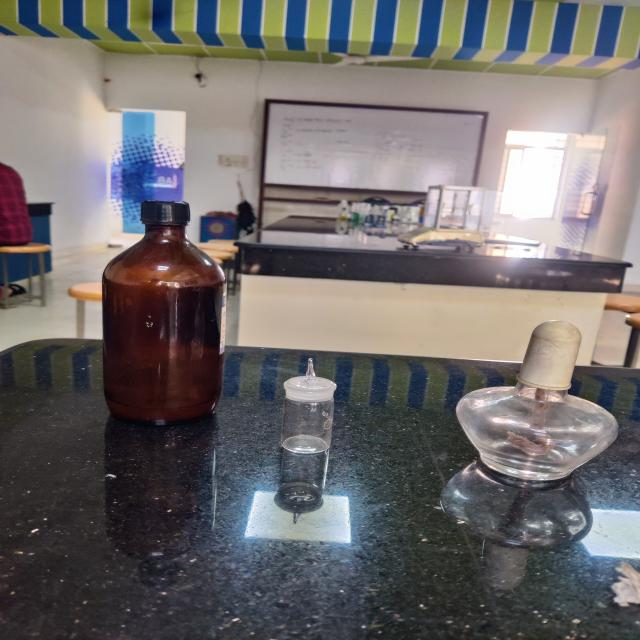Nessler_Reagent_Bottle: (85, 186, 242, 432)
Spirit_Lamp: (429, 306, 640, 506)
Weighing_Bottle: (265, 341, 353, 471)
